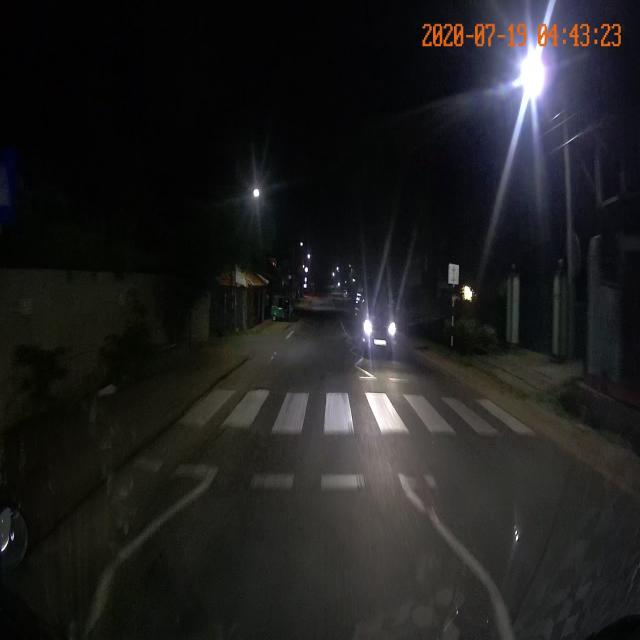Crosswalk: (131, 382, 546, 495)
